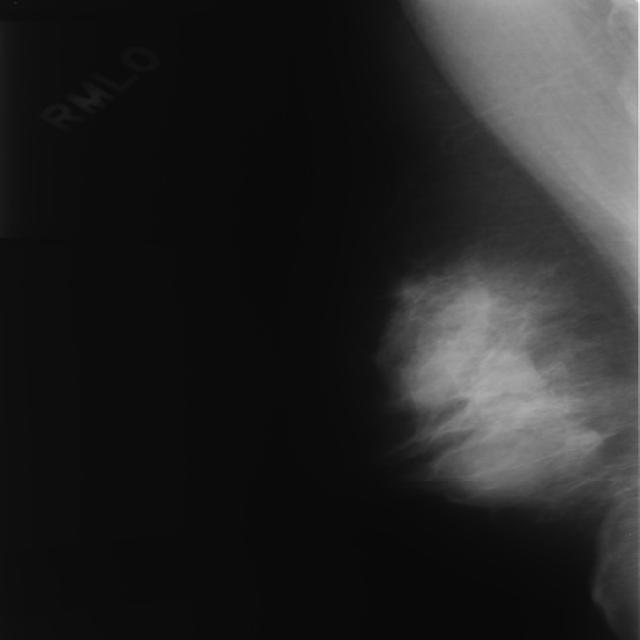tumour: (441, 439, 545, 500)
